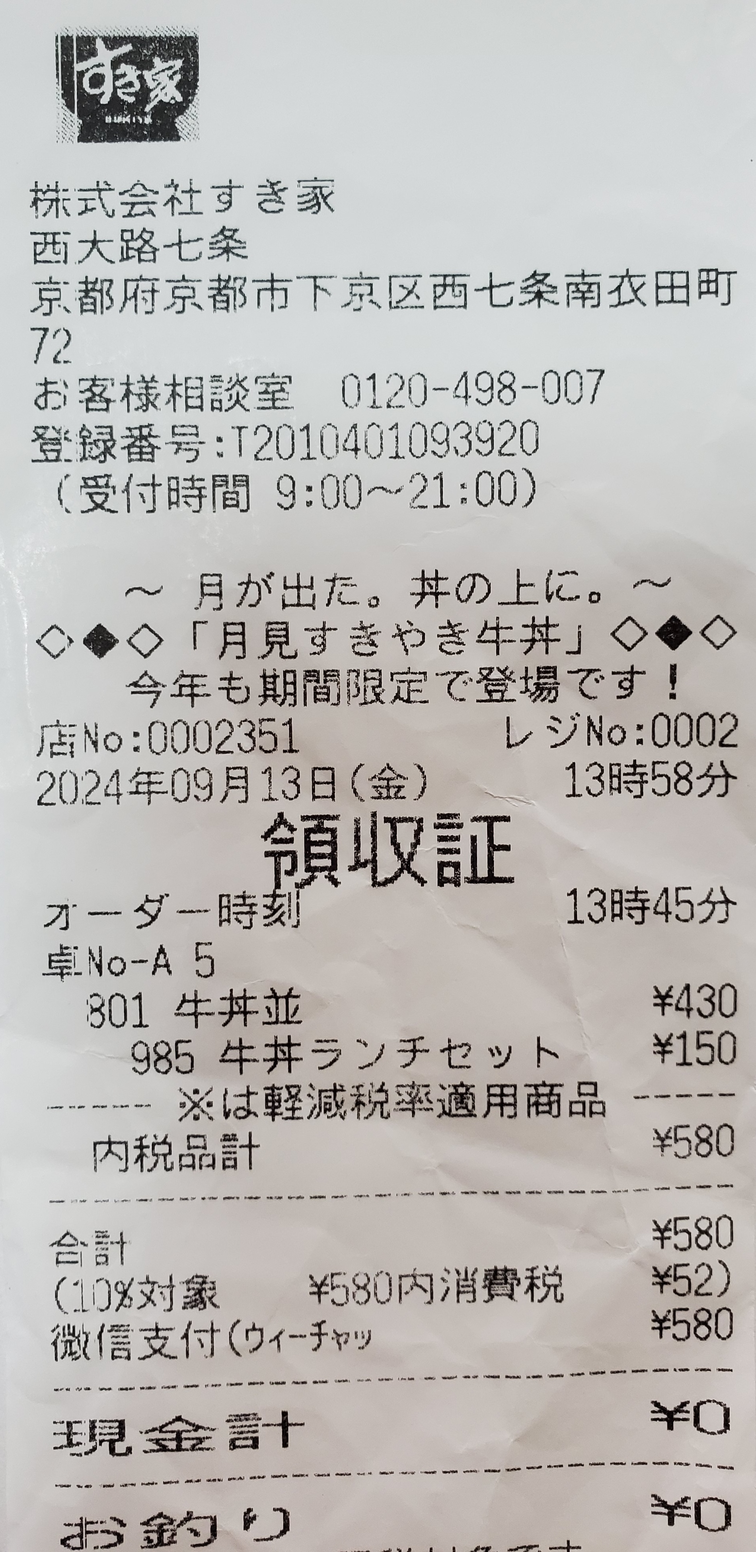Date: (25, 764, 348, 812)
Shopname: (29, 16, 237, 155)
Telnum: (315, 359, 640, 421)
Totalpay: (41, 1206, 744, 1261)
